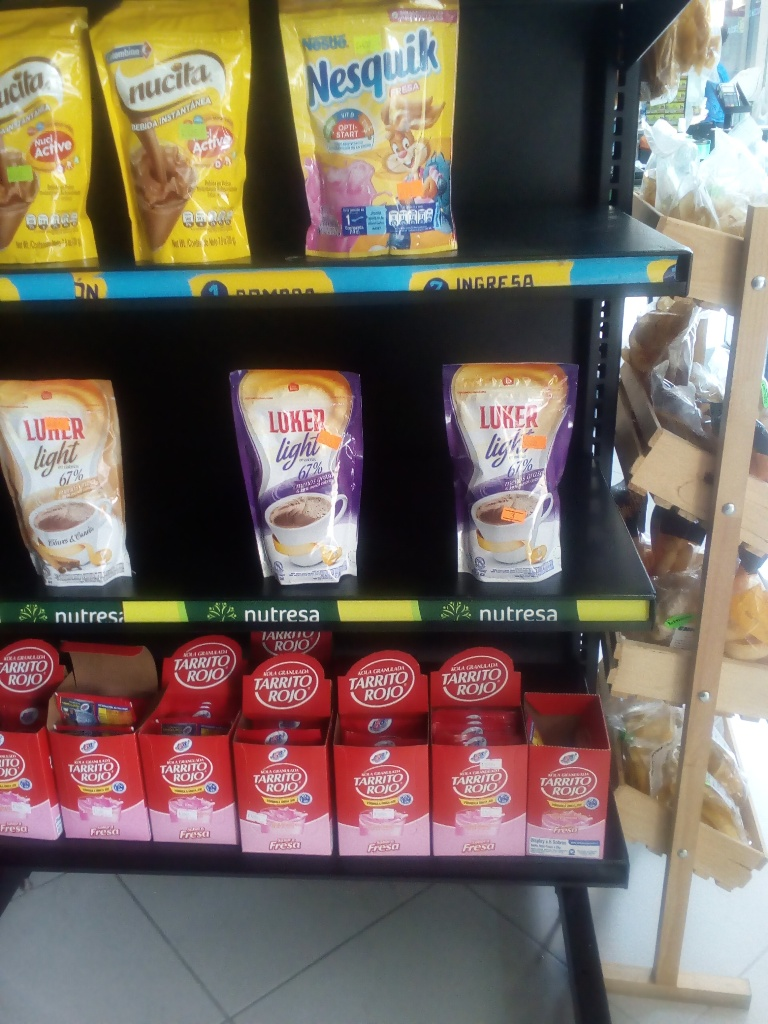COL0170305DYP20000: (280, 0, 463, 267)
